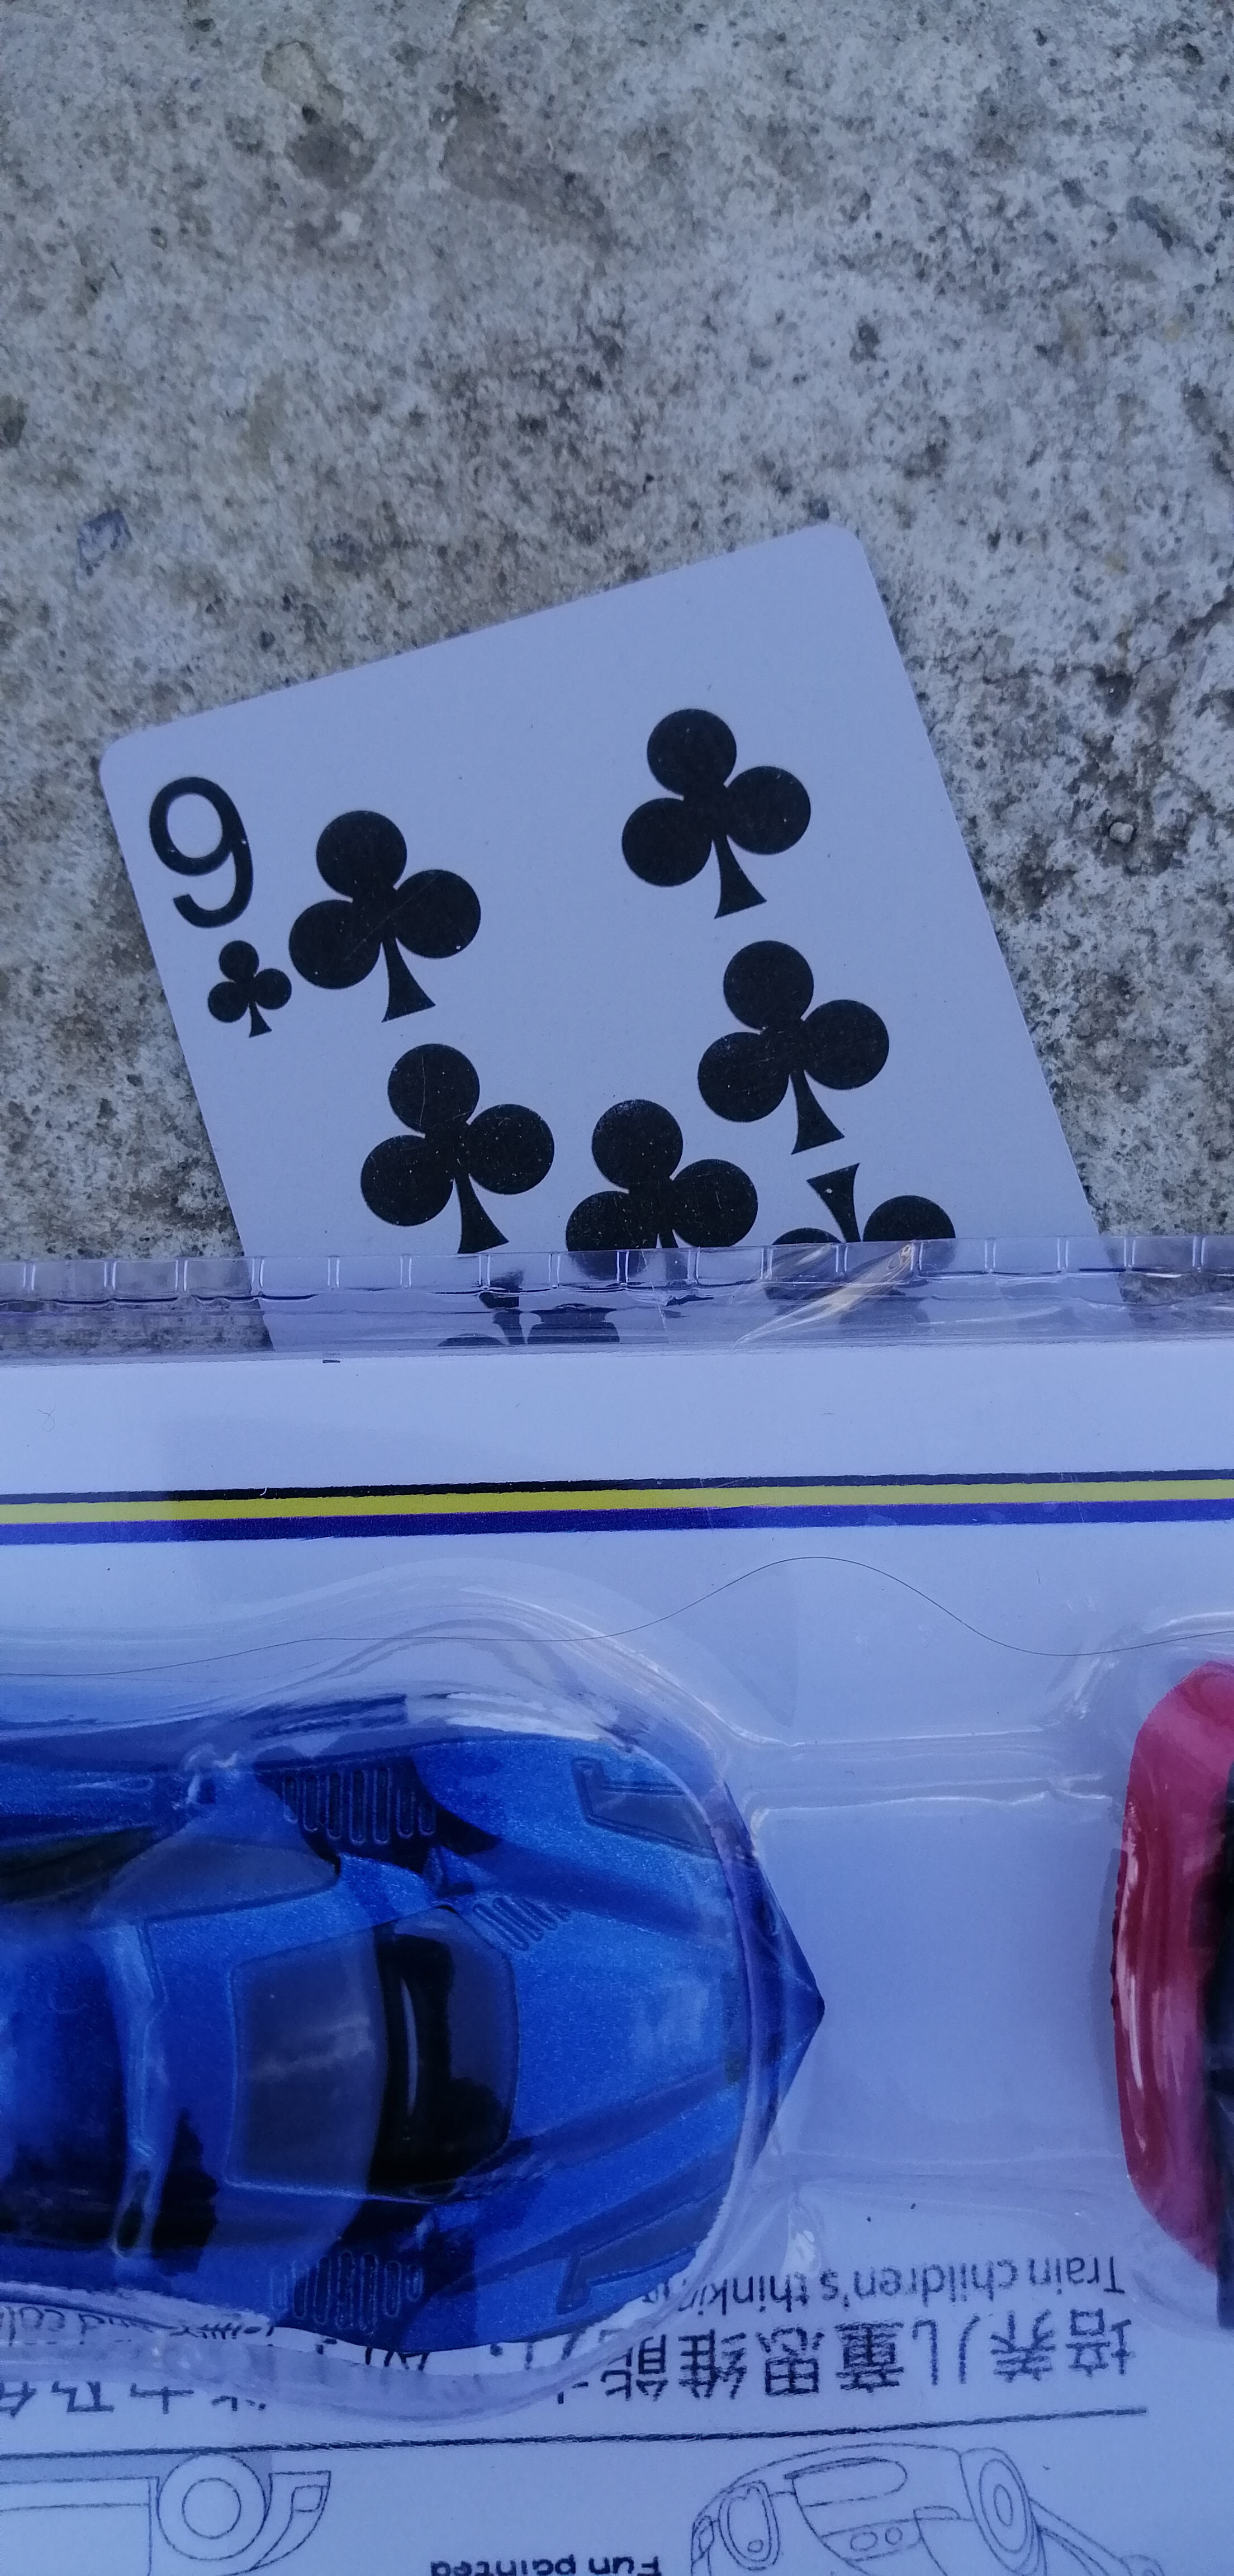nine: (72, 524, 1152, 1367)
